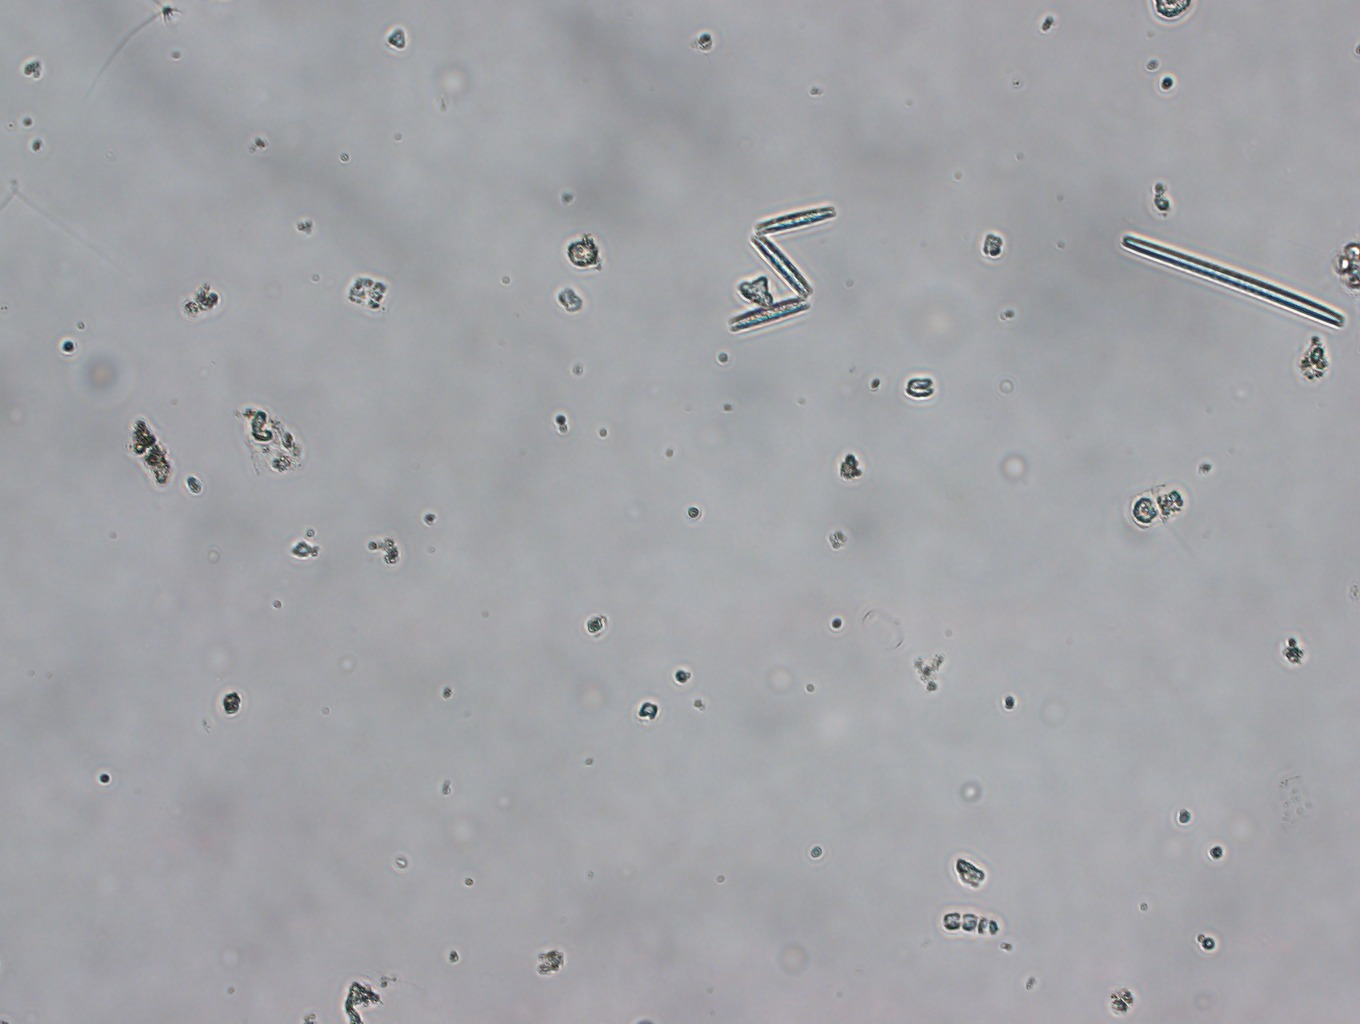thalassionema nitzschioides: (722, 191, 843, 341)
